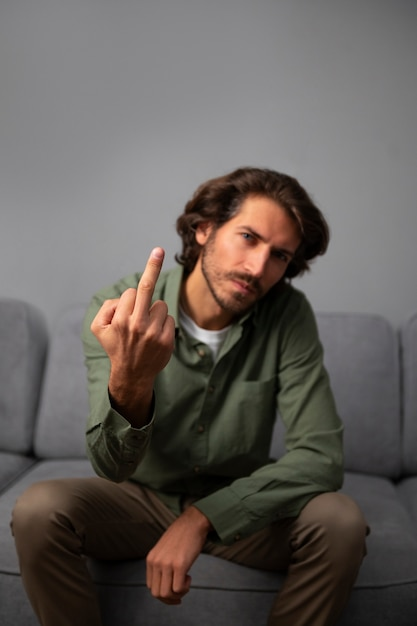insulting_gesture: (88, 244, 179, 392)
